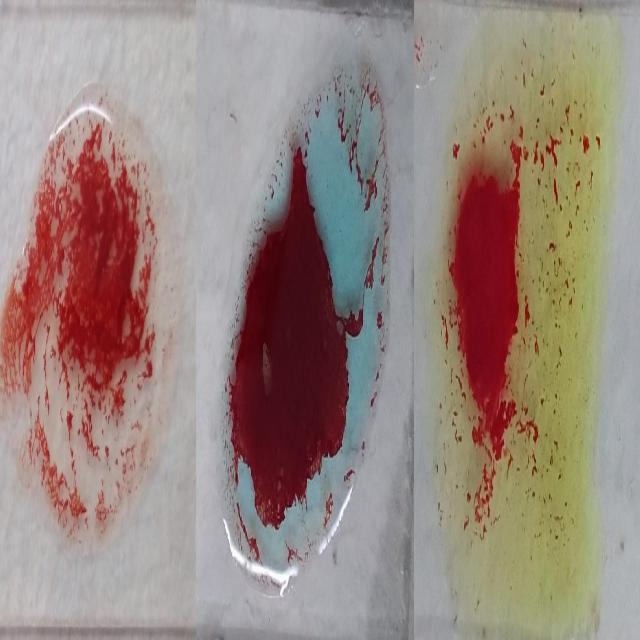A: (219, 70, 384, 600)
B: (434, 20, 595, 635)
D: (20, 98, 154, 540)
